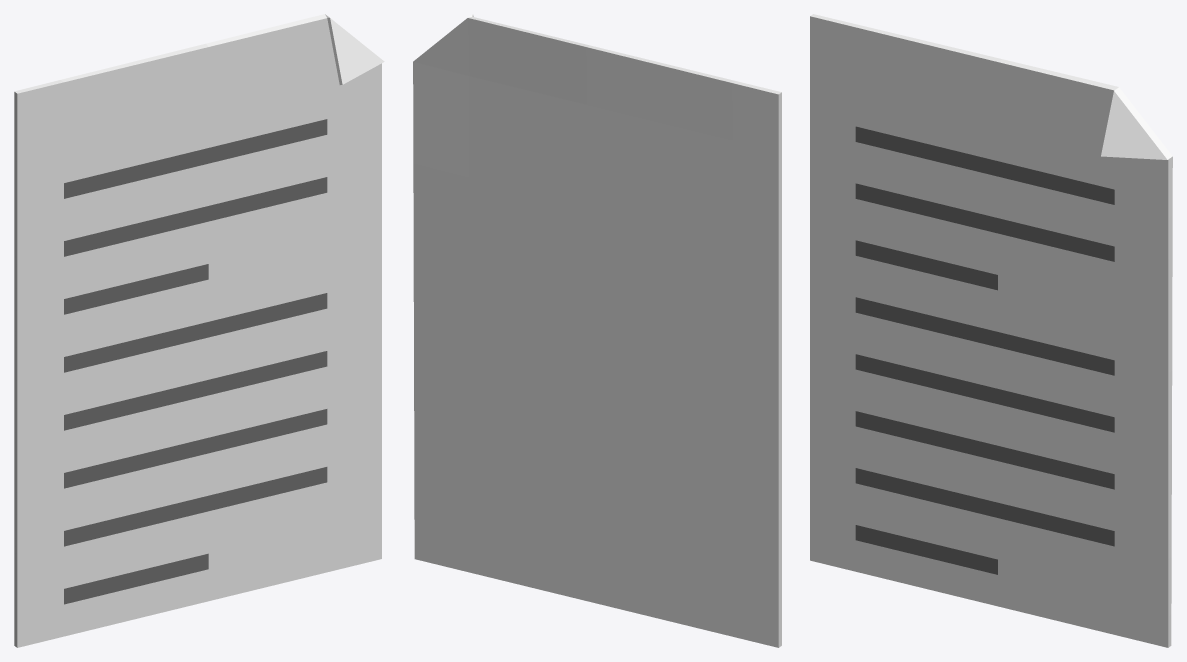
Rendered from page_facing_up.glb.
The picture shows the model from 3 angles, left to right: view 1: azimuth 30°, elevation 25°; view 2: azimuth 150°, elevation 25°; view 3: azimuth 330°, elevation 25°; orthographic projection.
Parts seen in each view (by area): view 1: Plane.323; view 2: Plane.323; view 3: Plane.323.
Boxes of the visible parts, bbox=[...] form: Plane.323: bbox=[14, 14, 384, 647]; Plane.323: bbox=[413, 14, 781, 647]; Plane.323: bbox=[810, 14, 1172, 647].
Size of the model in its own units: 1.64 by 2.38 by 0.1413.
1 material, 1 textured.
